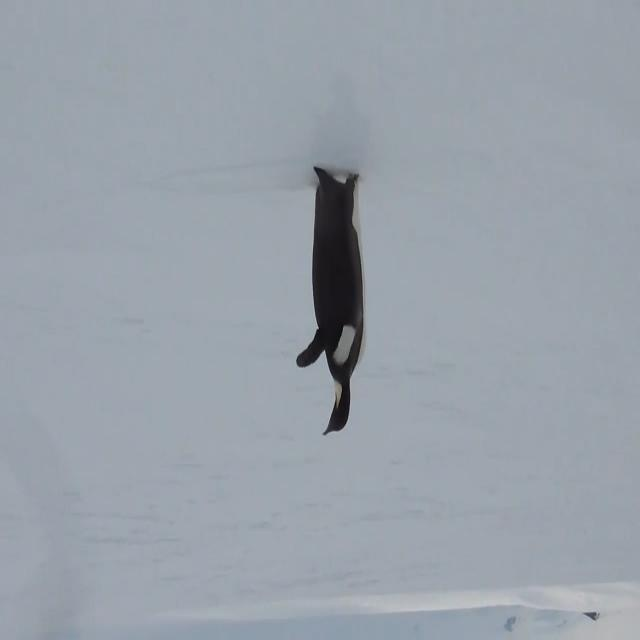penguin: (295, 166, 367, 438)
